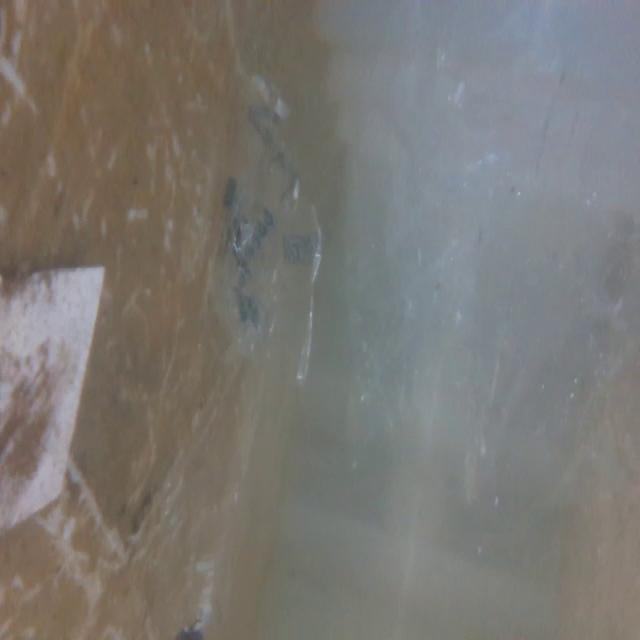metal: (0, 268, 108, 534)
plastic bags: (343, 4, 556, 601), (196, 69, 326, 404)
